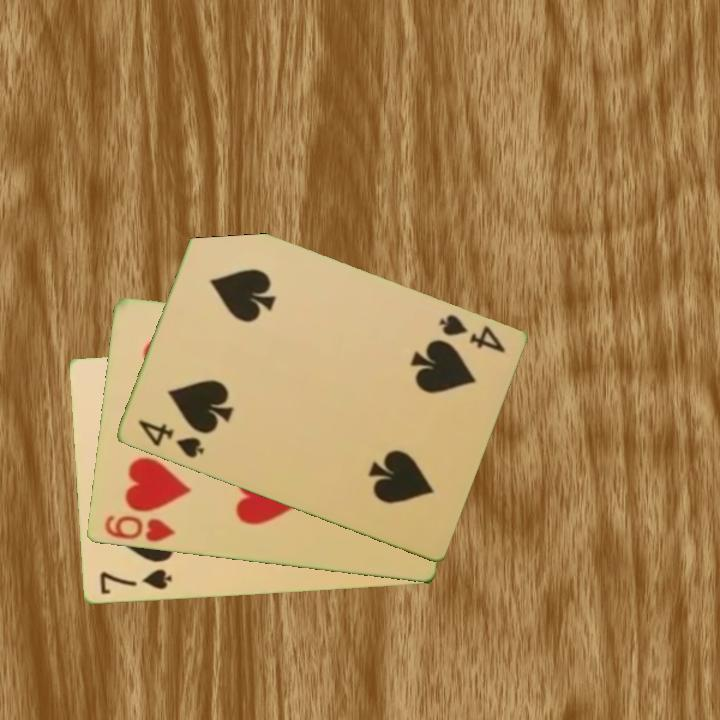4s: (133, 416, 207, 462), (435, 311, 508, 356)
6h: (101, 512, 178, 546)
7s: (95, 566, 175, 598)
